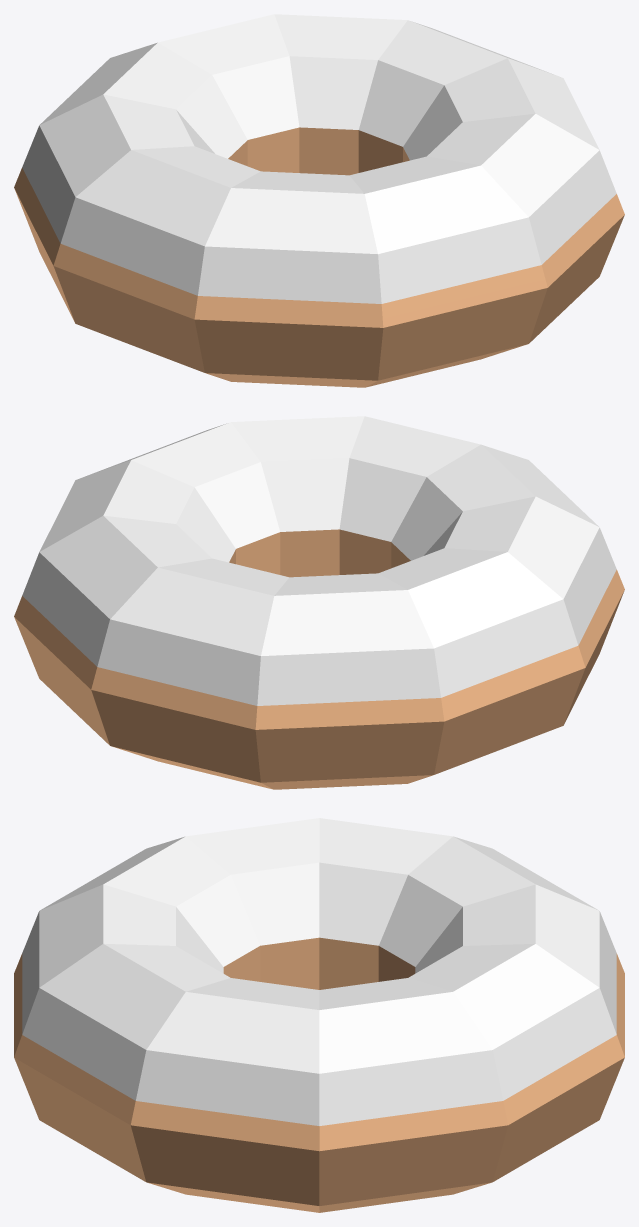
Rendered from Dounut02.fbx.
3 views of the same model, one above another, from view 1: azimuth 30°, elevation 25°; view 2: azimuth 150°, elevation 25°; view 3: azimuth 270°, elevation 25° (orthographic). The views are drawn at different scales.
Parts seen in each view (by area): view 1: Dounut; view 2: Dounut; view 3: Dounut.
Part boxes in pixels (x1=…): Dounut: x1=14, y1=14, x2=624, y2=387; Dounut: x1=14, y1=416, x2=624, y2=789; Dounut: x1=14, y1=818, x2=624, y2=1212.
Bounding box in the file's own units: 328 × 114 × 312.
